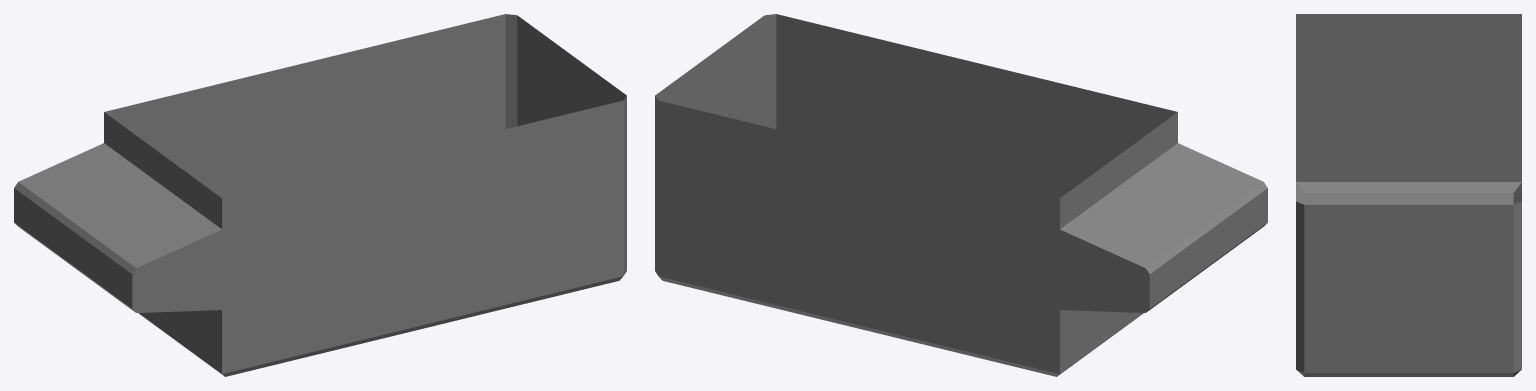
The model's file is lackC01.fbx.
3 views of the same model, side by side, from view 1: azimuth 30°, elevation 25°; view 2: azimuth 150°, elevation 25°; view 3: azimuth 270°, elevation 25° (orthographic). The views are drawn at different scales.
Parts seen in each view (by area): view 1: polySurface6; view 2: polySurface6; view 3: polySurface6.
Boxes of the visible parts, x1,y1,x2,y2 form: polySurface6: [14, 14, 626, 376]; polySurface6: [655, 14, 1267, 376]; polySurface6: [1296, 14, 1521, 376].
Bounding box in the file's own units: 1.22 × 0.4288 × 0.5.
1 material, 1 textured.
